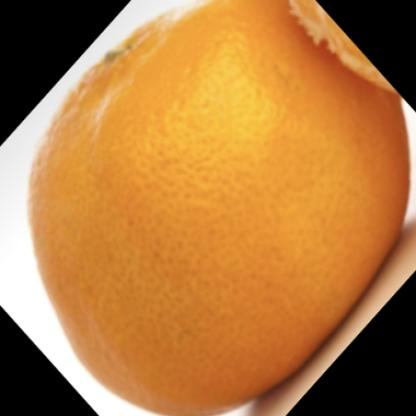fresh: (31, 2, 408, 416)
